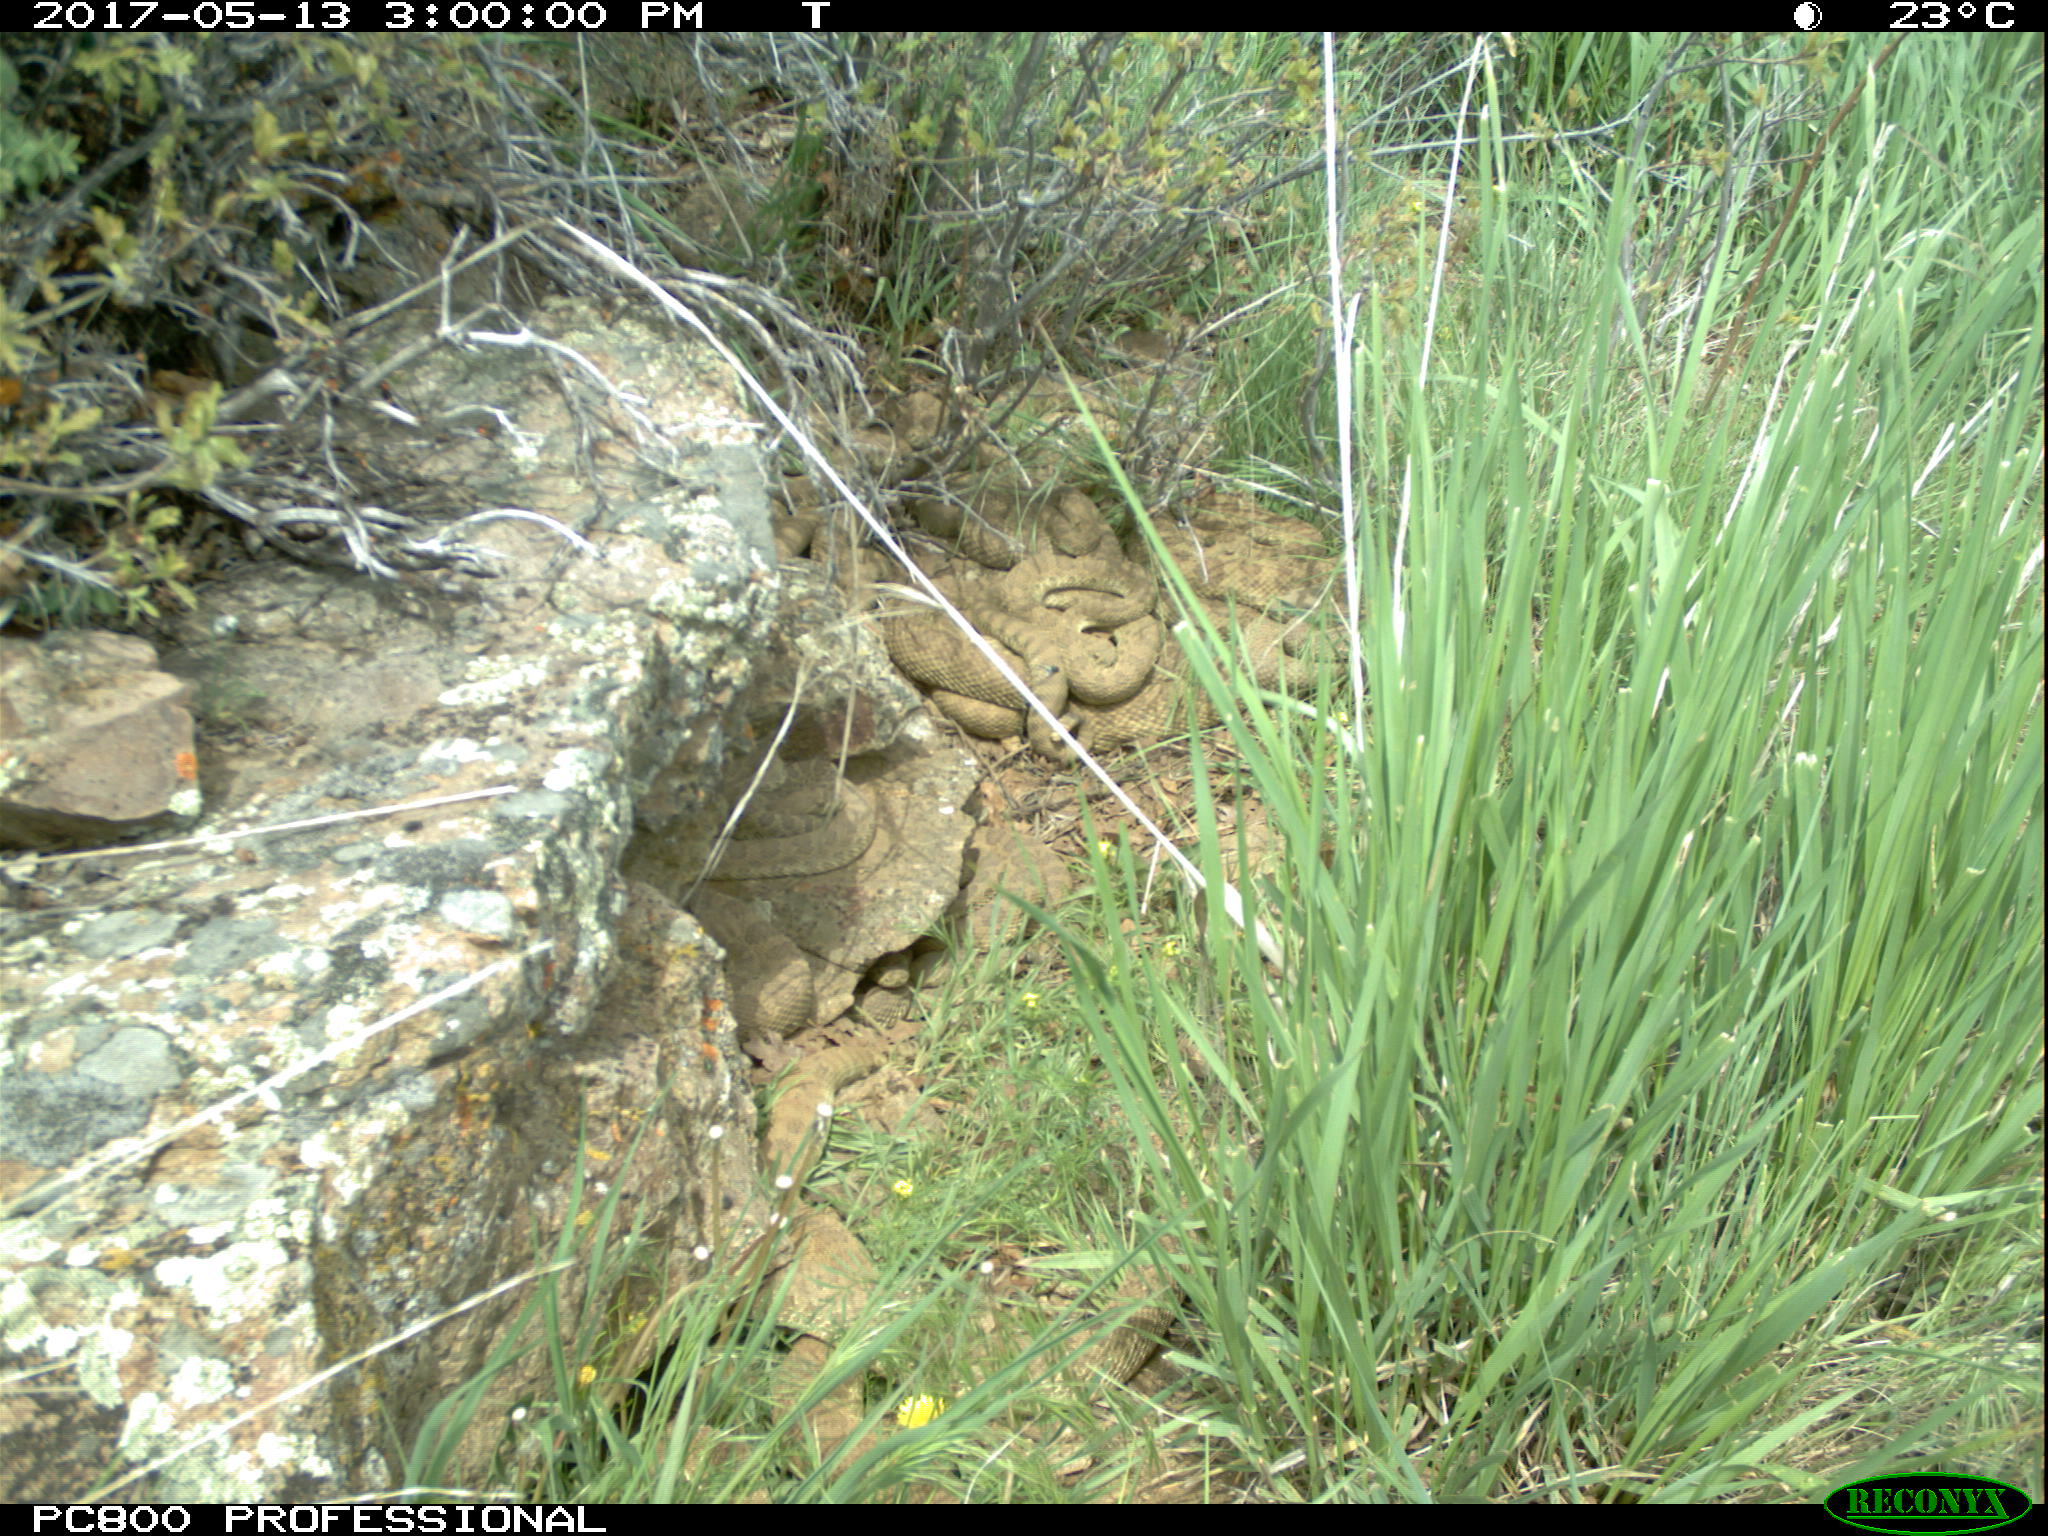snake: (900, 1262, 1180, 1412), (1009, 553, 1180, 736), (887, 557, 1040, 739), (760, 1021, 914, 1200), (780, 1212, 880, 1480), (1147, 502, 1366, 605), (922, 461, 1121, 560), (693, 894, 814, 1042), (684, 784, 874, 878), (1177, 595, 1343, 692), (948, 821, 1072, 942), (860, 945, 953, 1013), (885, 390, 956, 452)
